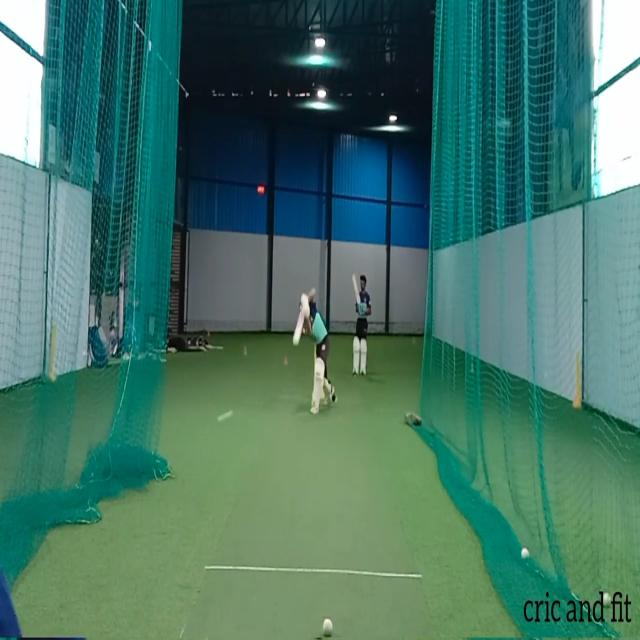batsman: (292, 287, 339, 416)
